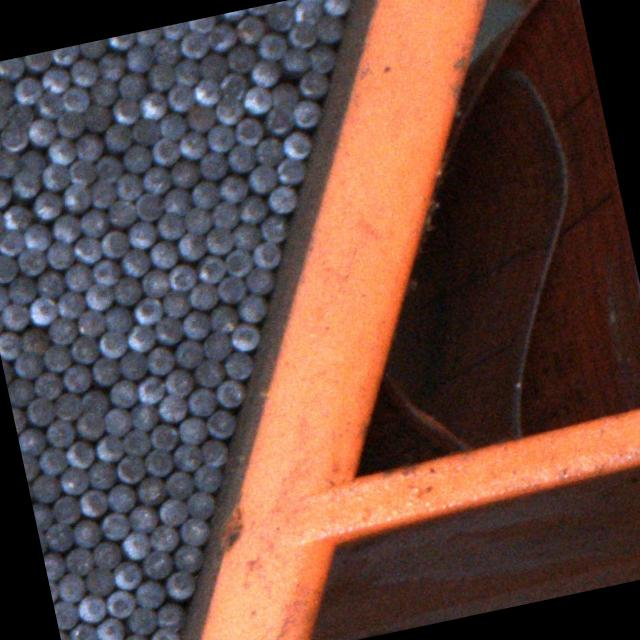tool: (74, 590, 107, 624), (252, 134, 286, 167), (24, 394, 57, 427), (43, 415, 76, 448), (215, 172, 248, 205), (161, 470, 194, 503), (43, 237, 76, 270), (220, 350, 253, 383), (192, 252, 225, 285), (223, 41, 256, 74), (205, 303, 238, 336), (205, 19, 238, 52), (56, 464, 90, 496), (139, 548, 173, 580), (266, 182, 298, 215), (53, 389, 85, 422), (96, 328, 128, 361), (51, 212, 84, 244), (228, 320, 261, 352), (255, 30, 288, 62), (117, 245, 149, 278), (125, 604, 158, 636), (90, 354, 122, 387), (203, 407, 236, 439), (59, 362, 92, 394), (138, 164, 170, 197), (108, 378, 140, 411), (56, 570, 88, 603), (244, 163, 276, 196), (120, 143, 153, 175), (177, 516, 210, 548), (162, 366, 195, 398), (171, 542, 204, 574), (214, 274, 247, 306), (172, 336, 204, 369), (133, 475, 166, 507), (203, 222, 235, 255), (234, 290, 267, 322), (12, 346, 44, 379), (29, 188, 62, 220), (311, 13, 344, 45), (213, 94, 246, 126), (10, 167, 42, 200), (205, 122, 237, 154), (36, 446, 68, 478), (27, 295, 59, 327), (290, 97, 322, 129), (214, 376, 246, 408), (64, 438, 96, 470), (110, 560, 142, 592), (186, 280, 218, 312), (131, 296, 163, 328), (126, 502, 158, 534), (124, 41, 156, 73), (184, 488, 216, 520), (90, 538, 122, 570), (132, 190, 164, 222), (180, 308, 212, 340), (169, 442, 201, 474), (46, 314, 78, 346), (232, 116, 264, 148), (162, 568, 194, 600), (142, 446, 174, 478), (106, 481, 138, 513), (83, 280, 115, 312), (224, 141, 256, 173), (176, 27, 208, 59), (31, 368, 63, 400), (114, 452, 146, 484), (156, 494, 188, 526), (54, 287, 86, 319), (98, 228, 130, 260), (62, 545, 94, 577), (120, 530, 152, 562), (221, 246, 253, 278), (6, 274, 38, 306), (43, 520, 75, 552), (146, 522, 178, 554), (199, 330, 231, 362), (123, 322, 155, 354), (236, 193, 268, 225), (63, 260, 95, 292), (116, 350, 148, 382), (104, 588, 136, 620), (191, 462, 223, 494), (190, 178, 222, 210), (156, 390, 188, 422), (280, 129, 312, 161), (191, 358, 223, 390), (133, 576, 165, 608), (86, 76, 118, 108), (198, 51, 230, 83), (73, 408, 105, 440), (150, 36, 182, 68), (234, 14, 266, 46), (14, 244, 46, 276), (27, 472, 59, 504), (78, 208, 110, 240), (183, 102, 215, 134), (39, 64, 71, 96), (160, 185, 192, 217), (185, 384, 217, 416), (128, 116, 160, 148), (268, 81, 300, 113), (216, 70, 248, 102), (263, 104, 295, 136), (53, 107, 85, 139), (86, 458, 117, 491), (61, 181, 92, 214), (296, 68, 329, 99), (12, 75, 45, 106), (39, 342, 71, 373), (101, 404, 132, 436), (165, 80, 196, 112), (146, 344, 177, 376), (176, 414, 207, 446), (250, 239, 282, 270), (126, 219, 158, 250), (243, 264, 275, 295), (50, 495, 81, 527), (274, 156, 306, 187), (209, 198, 240, 230), (256, 213, 288, 244), (116, 70, 147, 102), (84, 564, 115, 596), (148, 135, 179, 167), (249, 58, 281, 89), (242, 84, 274, 115), (70, 518, 101, 550), (153, 313, 184, 345), (41, 160, 72, 192), (134, 374, 166, 405), (160, 288, 191, 320), (176, 230, 207, 262), (154, 600, 186, 631), (103, 120, 134, 152), (0, 202, 31, 234), (74, 131, 105, 163), (111, 274, 142, 306), (230, 219, 262, 250), (0, 119, 31, 151), (263, 0, 295, 31), (18, 326, 51, 356), (95, 433, 126, 464), (148, 422, 179, 453), (144, 62, 175, 93), (59, 84, 90, 115), (139, 267, 170, 298), (0, 300, 31, 331), (176, 129, 207, 160), (27, 115, 58, 146), (181, 205, 212, 236), (66, 156, 97, 187), (105, 197, 136, 228), (46, 135, 77, 166), (156, 109, 187, 140), (95, 51, 126, 82), (286, 20, 318, 50), (70, 334, 100, 366), (72, 234, 102, 266), (166, 262, 198, 292), (148, 238, 178, 270), (136, 90, 166, 122), (88, 177, 118, 209), (304, 44, 336, 74), (80, 102, 110, 134), (76, 307, 106, 338), (78, 488, 109, 518), (197, 438, 228, 468), (191, 76, 221, 107), (97, 510, 128, 540), (153, 210, 184, 240), (68, 56, 99, 86), (198, 150, 228, 181), (101, 304, 132, 334), (22, 220, 52, 251), (129, 400, 159, 431), (16, 427, 46, 458), (34, 89, 64, 120), (35, 270, 66, 300), (110, 94, 140, 125), (94, 153, 124, 184), (80, 387, 110, 418), (17, 146, 48, 176), (120, 428, 150, 458), (112, 172, 142, 202), (172, 58, 202, 88), (90, 258, 120, 288), (168, 158, 198, 188), (280, 44, 310, 74), (6, 100, 36, 130), (6, 374, 34, 406), (52, 597, 78, 628), (0, 227, 26, 258), (93, 615, 125, 640), (289, 0, 322, 24), (0, 329, 23, 360), (0, 148, 22, 180), (67, 619, 99, 640), (43, 551, 65, 581), (32, 502, 54, 532), (23, 51, 53, 72), (50, 45, 80, 66), (0, 56, 26, 80), (21, 450, 40, 481), (80, 38, 109, 58), (0, 252, 18, 284), (188, 16, 218, 34), (134, 27, 162, 46), (107, 33, 136, 51), (148, 624, 180, 640), (321, 0, 353, 16), (0, 77, 15, 110), (162, 22, 188, 40), (217, 9, 246, 23), (0, 177, 12, 210), (12, 404, 26, 432), (246, 3, 274, 16), (1, 356, 13, 384), (37, 526, 48, 554), (0, 101, 9, 133), (48, 578, 59, 604), (119, 632, 152, 640), (0, 281, 8, 311), (274, 0, 300, 8), (58, 626, 71, 640), (0, 308, 3, 336)
